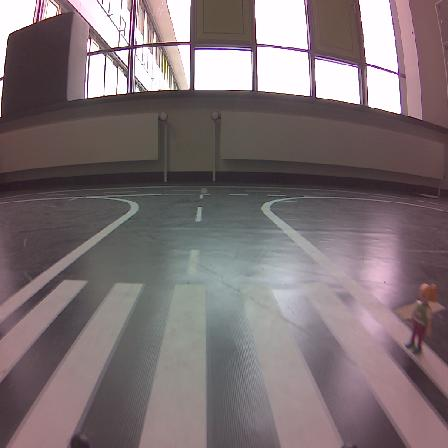PERSON: (406, 283, 436, 353)
